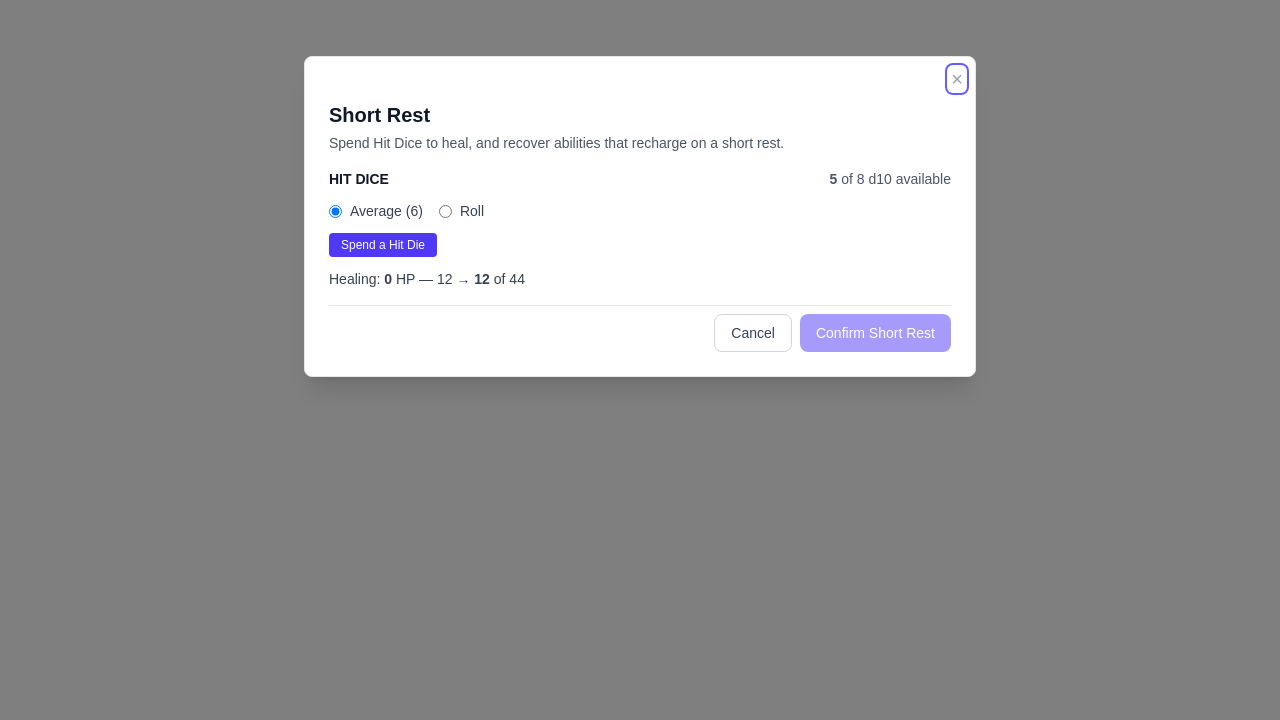
Scenario: ShortRestDialog (VEG-487) › spends a die at the fixed average by default
Click the button "Spend a Hit Die".
click(383, 245)  # box [329,233,437,257]
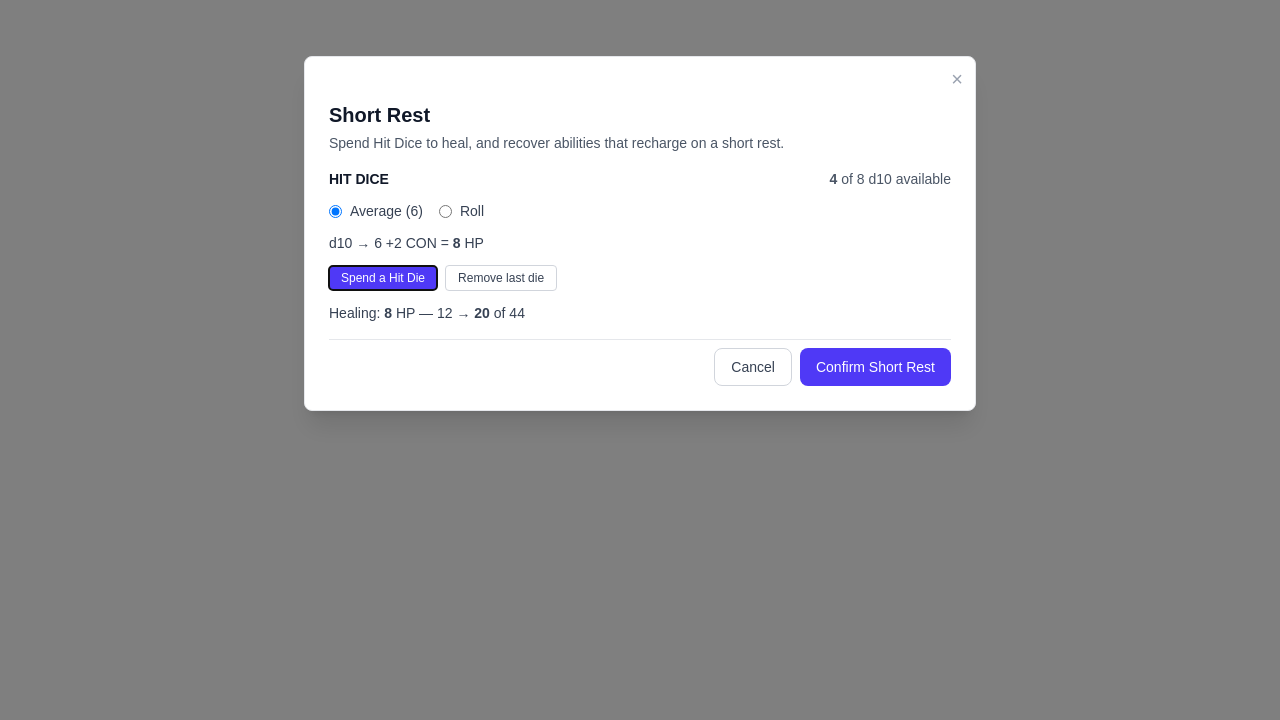
Now the text with test id "heal-total" reads "8", box [384,305,392,321]
